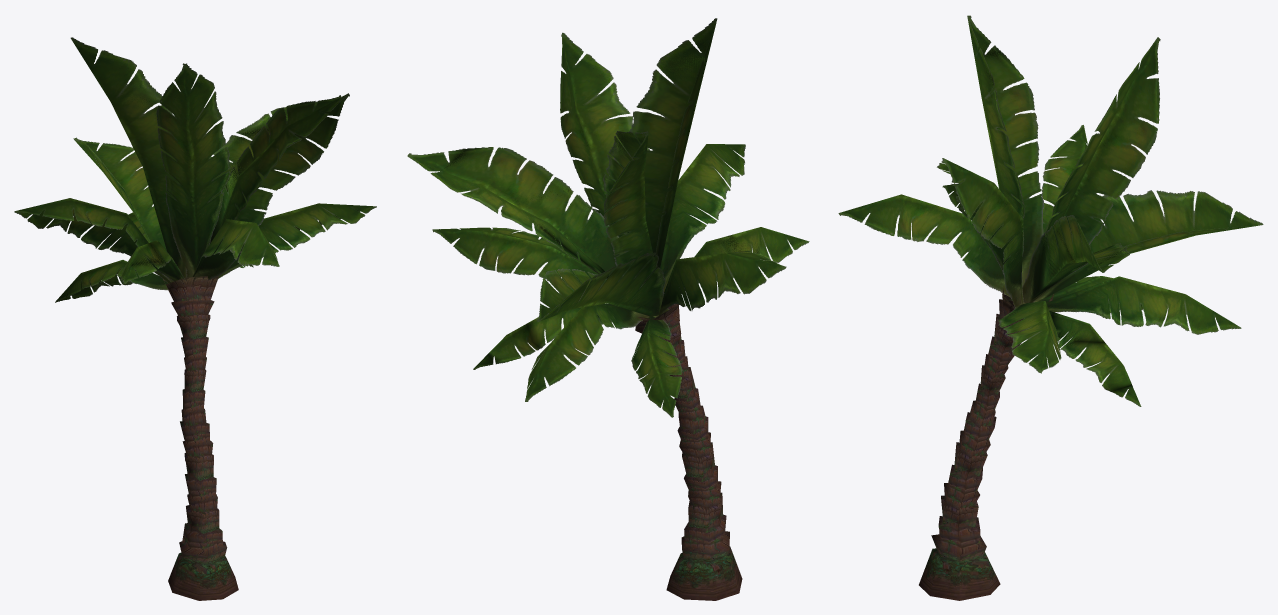
The model's file is sholazarpalm_tree03.obj.
3 views of the same model, side by side, from view 1: azimuth 30°, elevation 25°; view 2: azimuth 150°, elevation 25°; view 3: azimuth 270°, elevation 25° (orthographic). The views are drawn at different scales.
Parts seen in each view (by area): view 1: Geoset1, Geoset0; view 2: Geoset1, Geoset0; view 3: Geoset1, Geoset0.
Boxes of the visible parts, box(x1,y1,x2,y2) form: Geoset1: box(14, 37, 376, 302); Geoset0: box(163, 276, 238, 600); Geoset1: box(407, 18, 809, 417); Geoset0: box(635, 304, 742, 600); Geoset1: box(838, 15, 1263, 406); Geoset0: box(919, 288, 1053, 600).
Size of the model in its own units: 62.2 by 90.68 by 62.2.
Materials: 2 (2 with a texture image).
